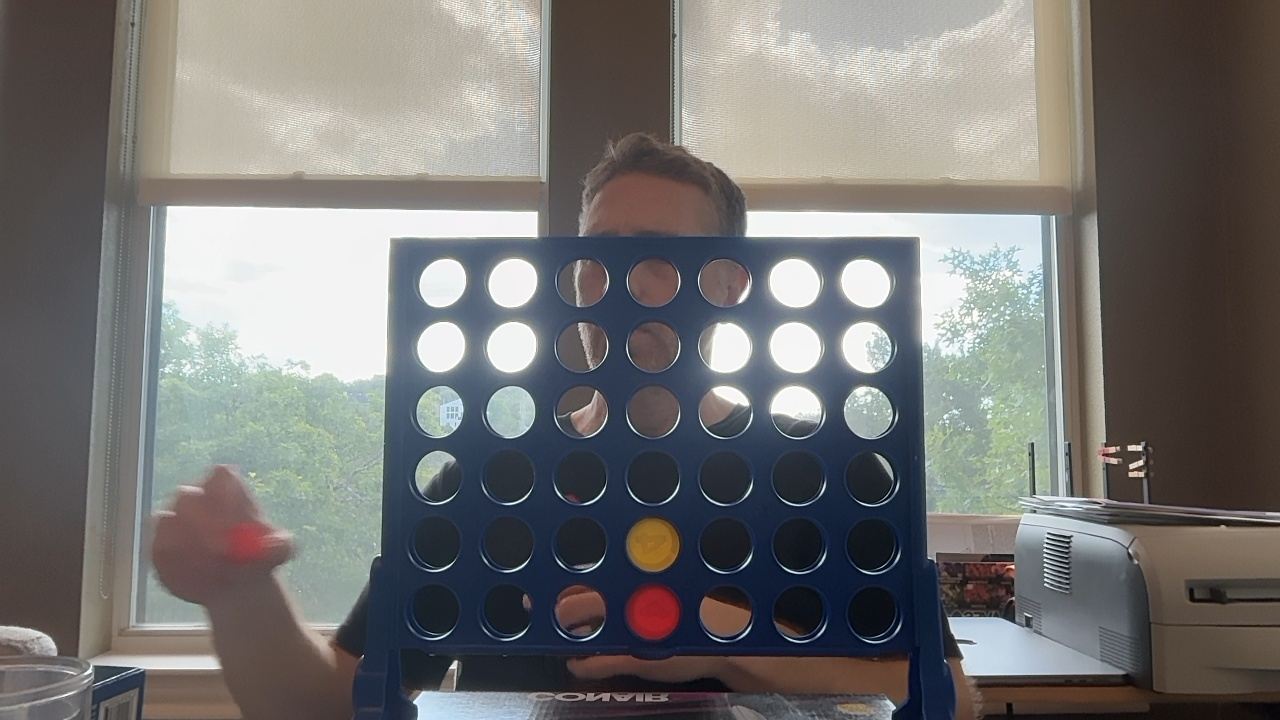red piece: (625, 584, 680, 640)
yellow piece: (626, 517, 679, 572)
